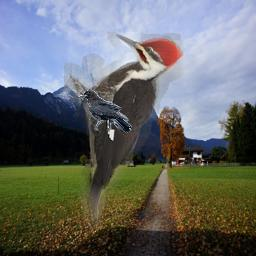Crow: (78, 90, 132, 133)
Woodpecker: (64, 32, 185, 229)
